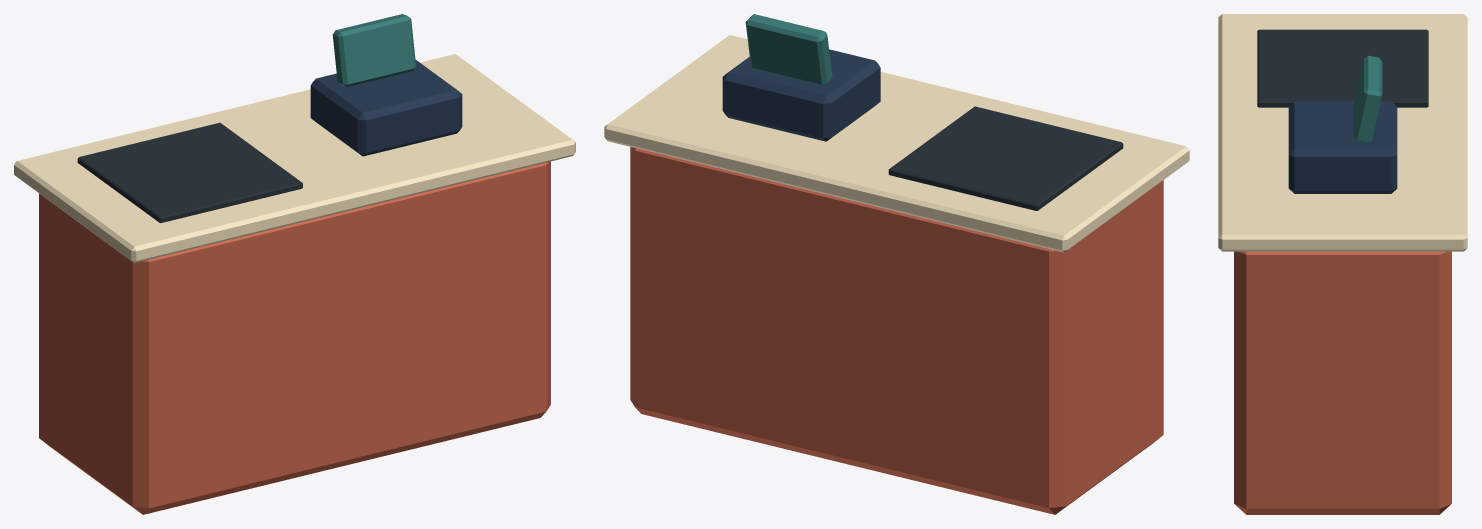
File: Prop_Checkout.fbx
3 renders of one model, left to right at view 1: azimuth 30°, elevation 25°; view 2: azimuth 150°, elevation 25°; view 3: azimuth 270°, elevation 25°, orthographic. The views are drawn at different scales.
Visible parts, largest first — view 1: Counter, Countertop, Conveyor, Register, RegisterScreen; view 2: Counter, Countertop, Conveyor, Register, RegisterScreen; view 3: Counter, Countertop, Conveyor, Register, RegisterScreen.
Part boxes in pixels (left/top/right/bottom): Counter: left=39, top=161, right=550, bottom=514; Countertop: left=14, top=54, right=575, bottom=262; Conveyor: left=77, top=122, right=302, bottom=222; Register: left=310, top=59, right=462, bottom=156; RegisterScreen: left=332, top=14, right=416, bottom=87; Counter: left=630, top=147, right=1163, bottom=514; Countertop: left=604, top=35, right=1189, bottom=252; Conveyor: left=888, top=106, right=1123, bottom=210; Register: left=722, top=49, right=880, bottom=141; RegisterScreen: left=745, top=14, right=832, bottom=84; Counter: left=1234, top=251, right=1451, bottom=514; Countertop: left=1218, top=14, right=1467, bottom=251; Conveyor: left=1257, top=29, right=1428, bottom=107; Register: left=1288, top=101, right=1397, bottom=193; RegisterScreen: left=1353, top=55, right=1382, bottom=142.
Bounding box in the file's own units: 1.7 × 1.38 × 0.8.
